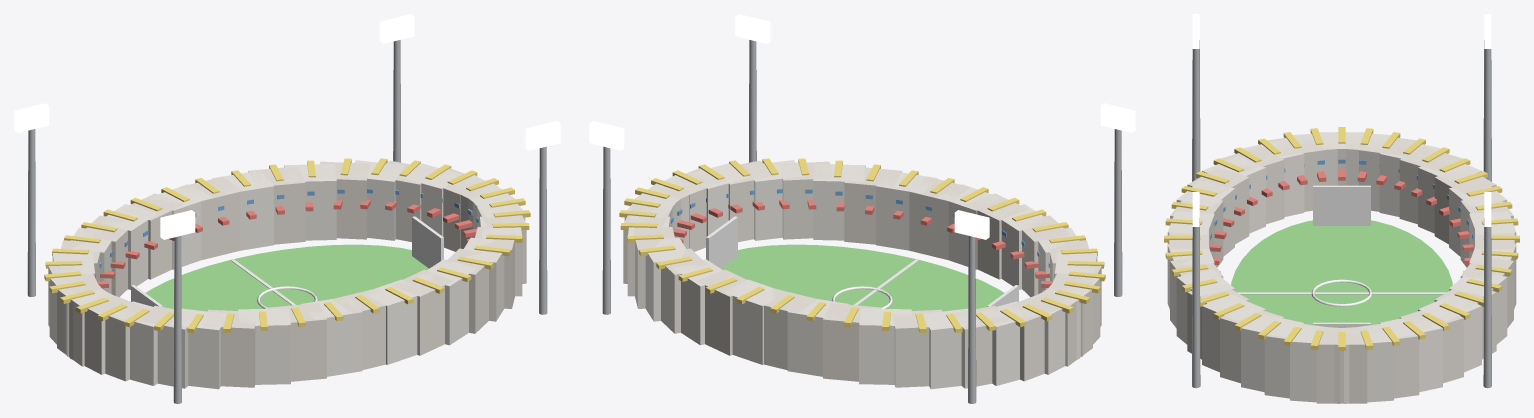
Rendered from stadion.glb.
3 renders of one model, left to right at view 1: azimuth 30°, elevation 25°; view 2: azimuth 150°, elevation 25°; view 3: azimuth 270°, elevation 25°, orthographic.
Parts seen in each view (by area): view 1: stadion; view 2: stadion; view 3: stadion.
Part boxes in pixels (x1,y1,x2,y2): stadion: (14, 14, 560, 403); stadion: (589, 14, 1135, 403); stadion: (1164, 14, 1519, 403).
Size of the model in its own units: 7.2 by 2.85 by 4.92.
